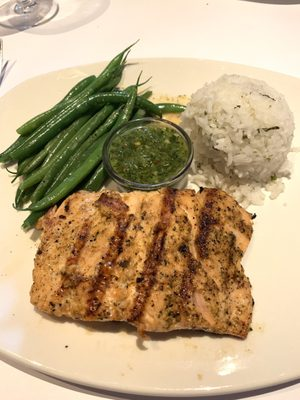soup: (30, 187, 255, 339)
sushi: (102, 117, 194, 193)
